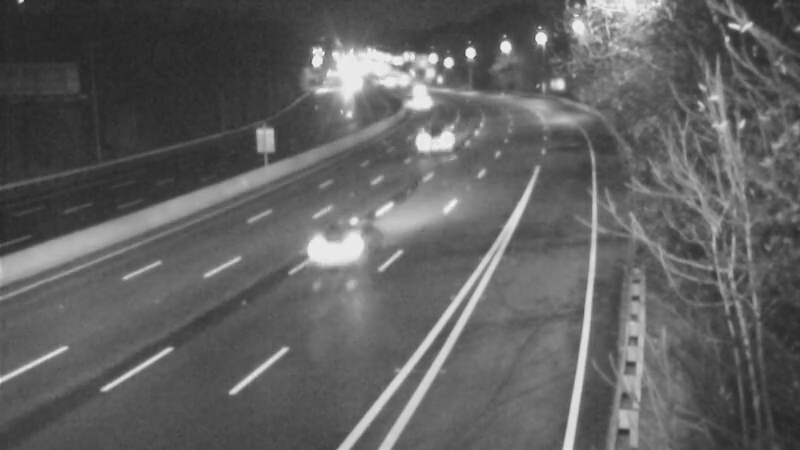vehicle: (309, 200, 389, 280), (394, 78, 444, 128), (412, 111, 462, 161)
